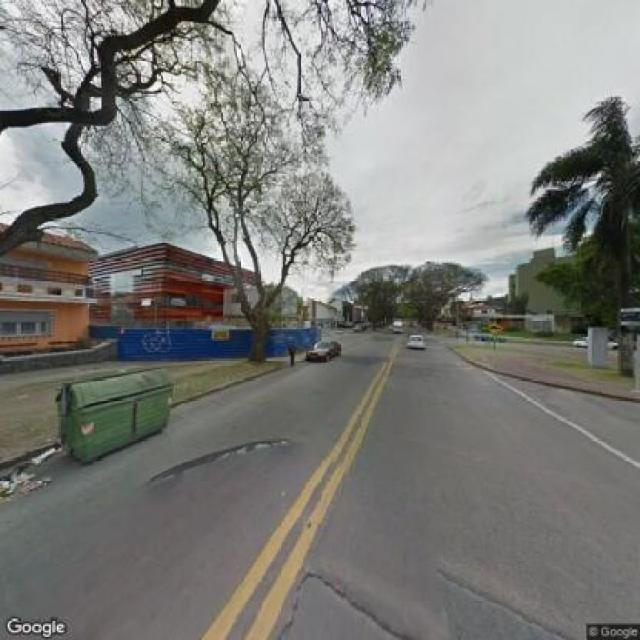garbage: (0, 440, 63, 500)
